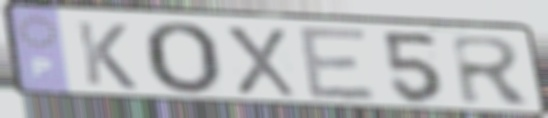5: (379, 28, 446, 108)
E: (294, 24, 380, 103)
K: (72, 18, 140, 92)
O: (140, 19, 223, 98)
R: (446, 33, 536, 107)
X: (221, 24, 301, 100)
